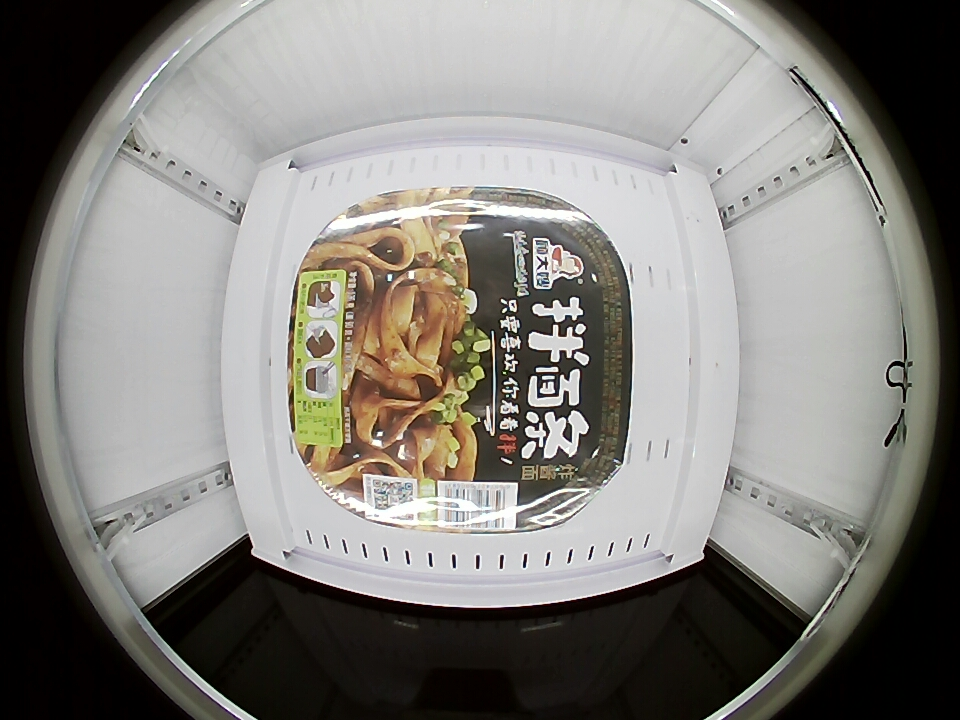gudasao: (282, 184, 636, 538)
